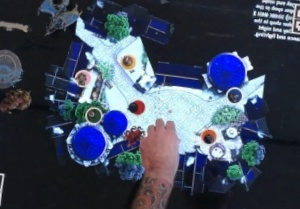blue: (224, 84, 246, 105)
green: (83, 103, 106, 126)
orange: (200, 126, 219, 145)
pink: (72, 66, 94, 88)
red: (125, 96, 149, 117)
yellow: (119, 50, 138, 69)
